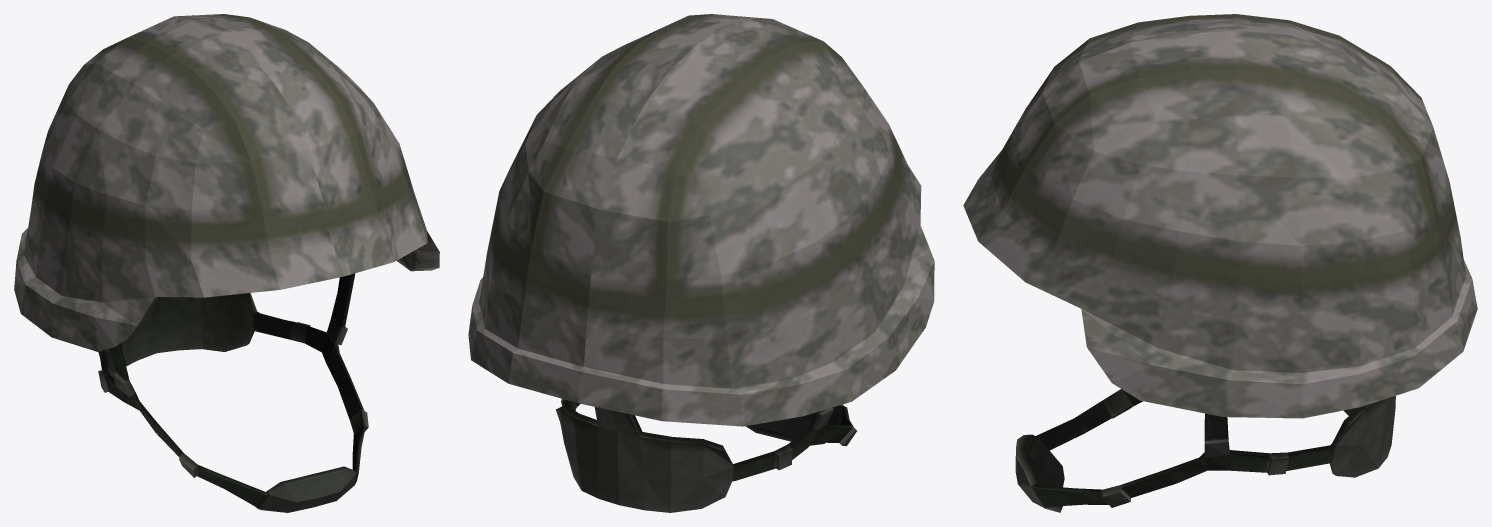
File: helmet_combat_grey.obj
3 views of the same model, side by side, from view 1: azimuth 30°, elevation 25°; view 2: azimuth 150°, elevation 25°; view 3: azimuth 270°, elevation 25° (orthographic). The views are drawn at different scales.
Parts seen in each view (by area): view 1: Default; view 2: Default; view 3: Default.
Part boxes in pixels (box(x1,y1,x2,y2)): Default: box(14, 14, 439, 512); Default: box(468, 14, 934, 512); Default: box(963, 14, 1477, 512).
Size of the model in its own units: 1.59 by 1.79 by 1.79.
